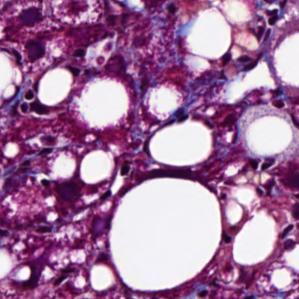inflammation: (220, 156, 282, 205), (0, 0, 64, 46), (241, 0, 296, 44), (15, 87, 52, 116)
